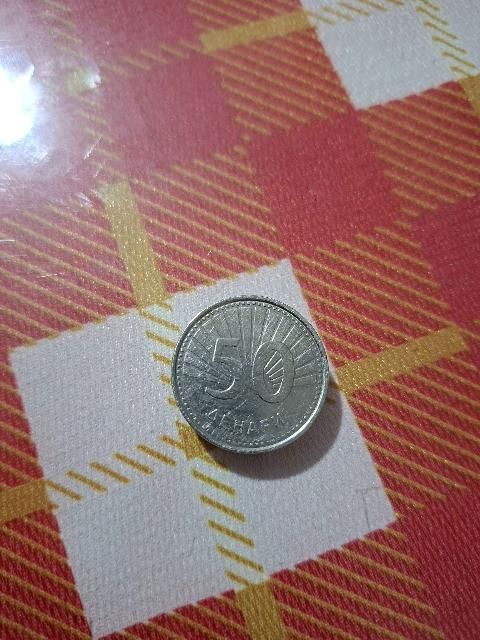coin: (172, 297, 328, 452)
